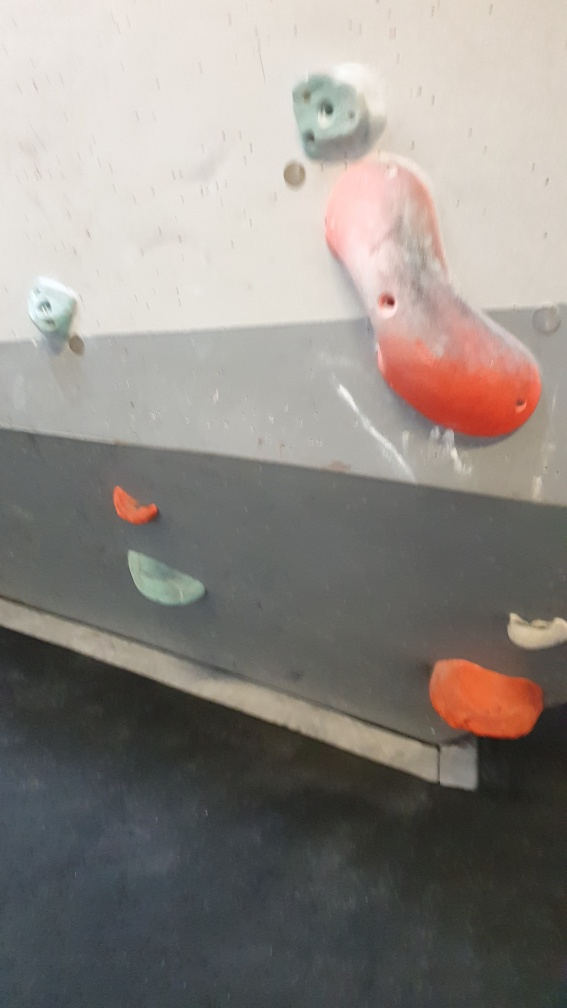Pinch: (324, 158, 541, 441)
